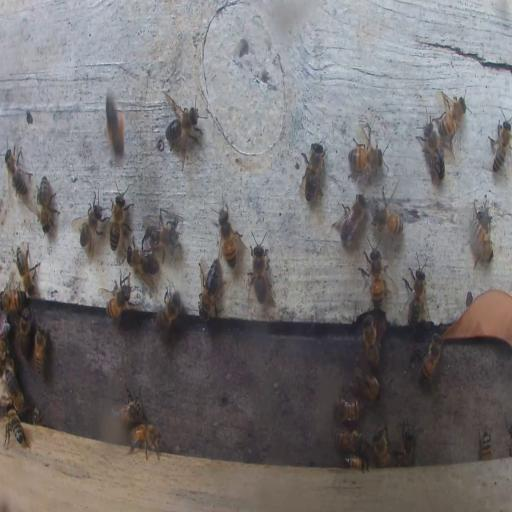bee: (74, 188, 108, 257), (416, 110, 446, 182), (162, 105, 201, 153), (144, 207, 180, 255), (405, 256, 428, 331), (299, 140, 327, 201), (107, 181, 131, 250), (196, 259, 223, 320), (347, 134, 388, 174), (247, 231, 270, 302), (334, 194, 366, 244), (439, 90, 468, 145), (105, 87, 126, 160), (110, 386, 144, 430), (5, 146, 32, 200), (471, 198, 492, 267), (102, 274, 132, 321), (36, 176, 60, 234), (488, 115, 512, 173), (15, 242, 40, 296), (128, 422, 164, 459), (156, 282, 182, 332), (419, 333, 444, 383), (364, 246, 384, 308), (218, 201, 236, 268), (126, 243, 160, 278), (374, 194, 404, 232), (397, 418, 417, 468), (362, 313, 380, 366), (3, 368, 24, 412), (352, 370, 380, 402), (332, 428, 366, 454), (372, 426, 392, 468), (334, 395, 364, 422), (5, 410, 26, 448), (0, 285, 28, 313), (34, 320, 48, 376), (18, 304, 31, 354), (342, 454, 369, 469), (480, 429, 492, 460), (30, 406, 43, 425)
